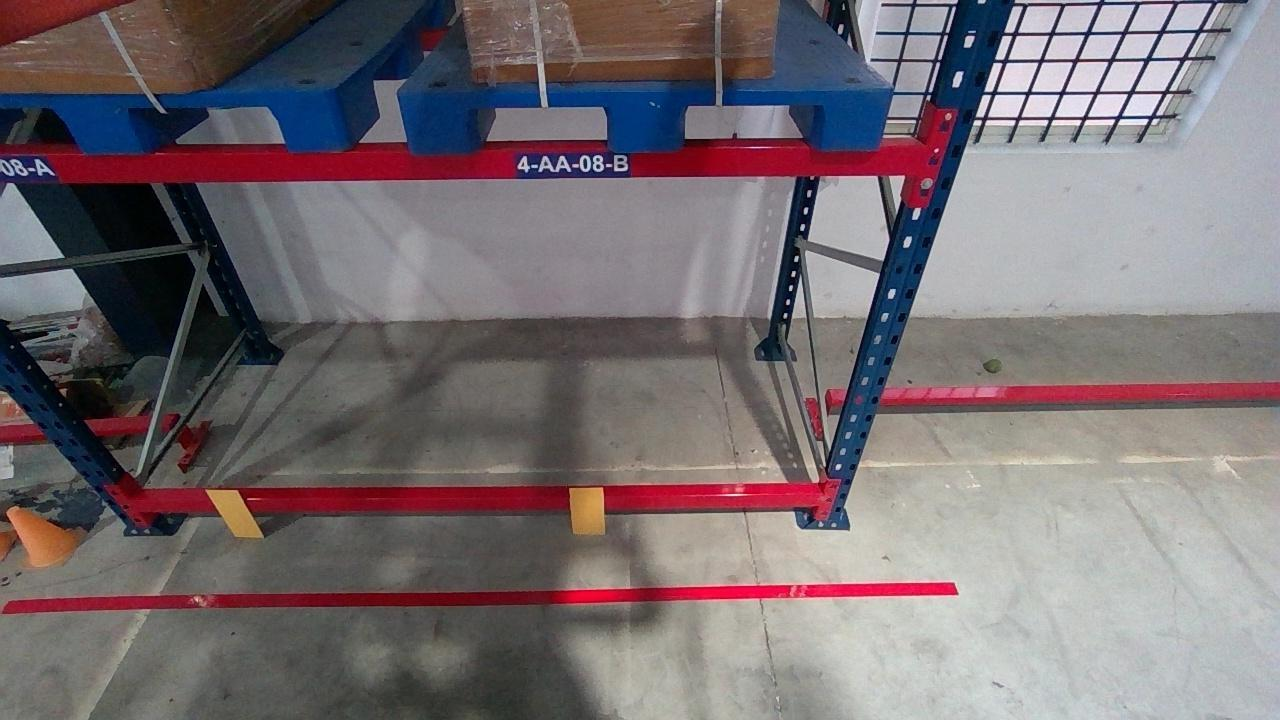h_rack: (4, 144, 924, 182), (131, 492, 823, 512)
orange_strip: (203, 489, 263, 538), (567, 487, 605, 534)
red_line: (1, 583, 959, 609)
small_pallet: (405, 87, 894, 149), (0, 91, 341, 151)
